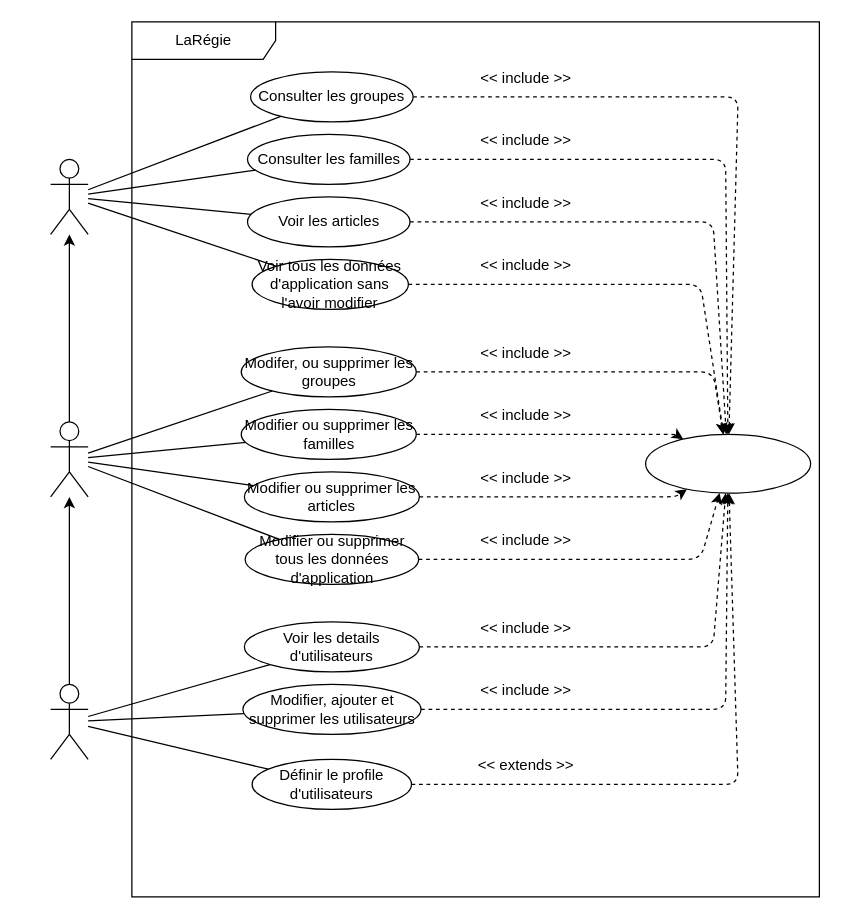
Some shapes in this 841 by 919 pixel diagram are drawn without their labels. The centre of each missing label's shape, as x and y in pixels:
"administrateur" belongs at point (68, 721).
"observateur" belongs at point (68, 196).
"operateur" belongs at point (68, 459).
"S'authentifier" belongs at point (727, 463).
